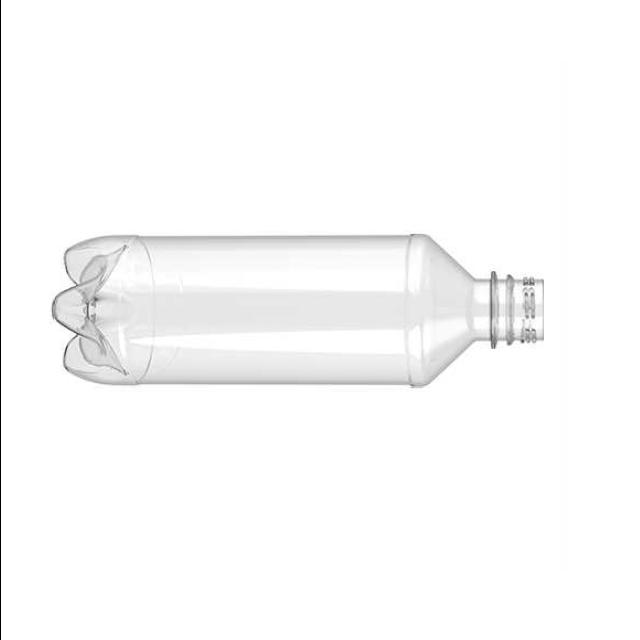bottle: (53, 235, 542, 387)
